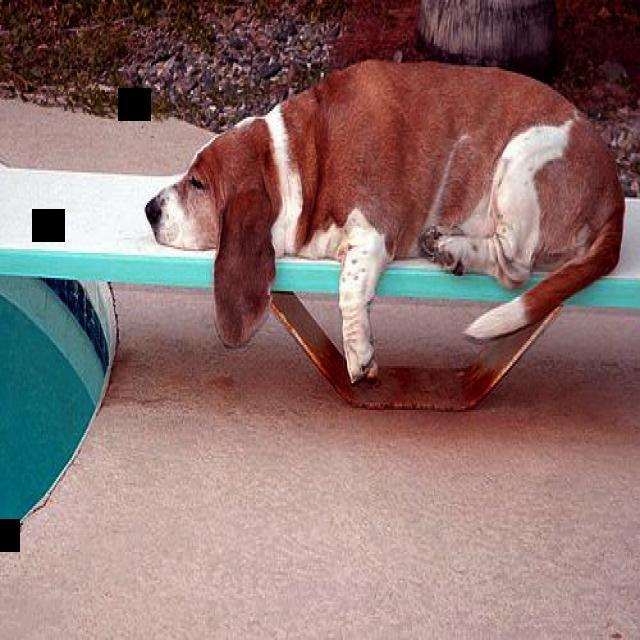adult_dog: (144, 56, 628, 385)
